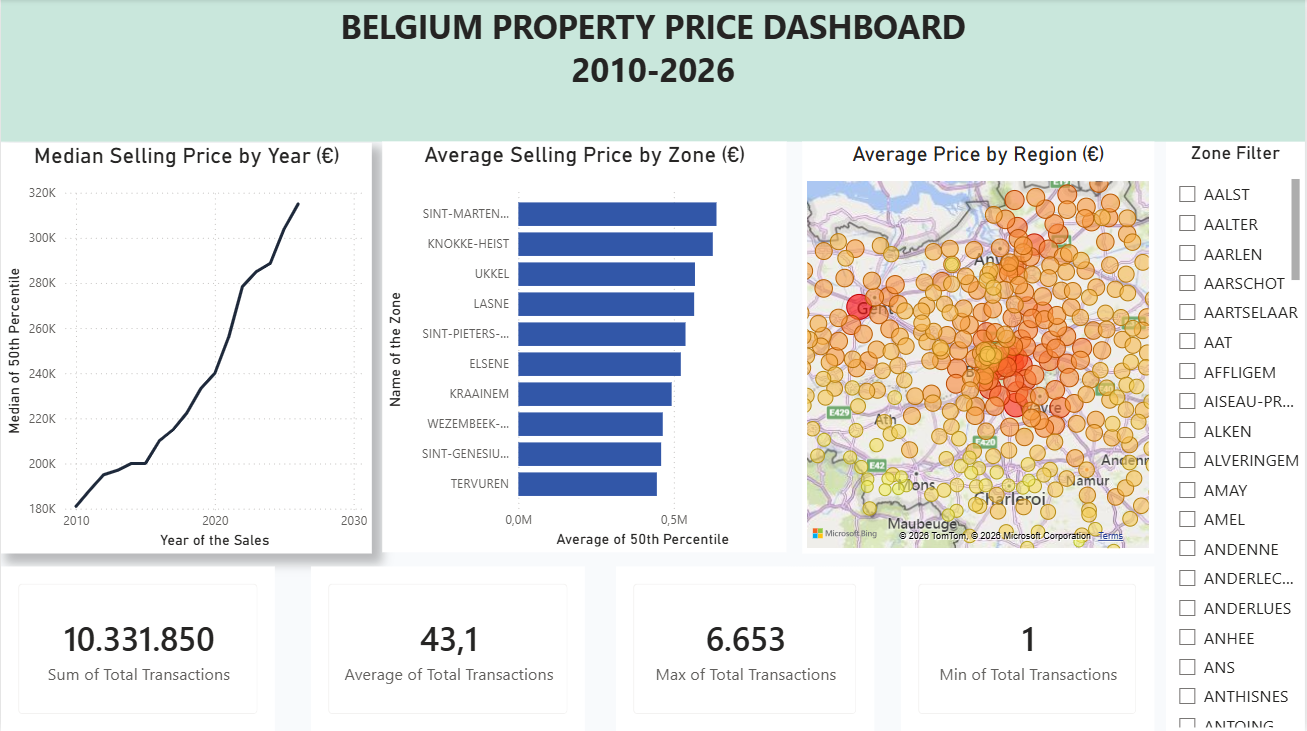

What the dashboard file says about the page in this screenshot:
{"tool":"powerbi","page":{"name":"Page 1","canvas":[1280,720],"ordinal":0},"visuals":[{"type":"lineChart","title":"Median Selling Price by Year (€)","fields":{"Category":["fct_property_sales.sales_year"],"Y":["Median(fct_property_sales.percentile_50)"]},"box":[0,141.2,364.3,403],"z":0},{"type":"slicer","title":"Zone Filter","fields":{"Values":["fct_property_sales.refnis_exp_nl"]},"box":[1143.7,139.9,136.3,580.3],"z":1000},{"type":"cardVisual","title":"Total Number of Transactions","fields":{"Data":["Sum(fct_property_sales.total_transactions)"]},"box":[0,557.4,269,162.9],"z":2000},{"type":"textbox","box":[0,0,1280,139.9],"z":3000},{"type":"cardVisual","title":"Average Number of Transactions","fields":{"Data":["Avg(fct_property_sales.total_transactions)"]},"box":[304,557.4,269,162.9],"z":4000},{"type":"cardVisual","title":"Minimum Number of Transactions","fields":{"Data":["Min(fct_property_sales.total_transactions)"]},"box":[883.1,557.4,248.5,162.9],"z":5000},{"type":"cardVisual","title":"Maximum Number of Transactions","fields":{"Data":["Max(fct_property_sales.total_transactions)"]},"box":[603.2,557.4,253.4,162.9],"z":6000},{"type":"clusteredBarChart","title":"Average Selling Price by Zone (€)","fields":{"Category":["fct_property_sales.refnis_exp_nl"],"Y":["Avg(fct_property_sales.percentile_50)"]},"box":[374,139.9,396.9,403],"z":7000},{"type":"map","title":"Average Price by Region (€)","fields":{"Category":["fct_property_sales.refnis_exp_nl"],"Size":["Avg(fct_property_sales.percentile_50)"]},"box":[786.6,139.9,345,404.2],"z":8000}]}

Visuals, with their boxes in screenshot pixels (x1, y1, x2, y2), scaled from the page's 1280x720 canvas onto the 1307x731 screenshot:
"Median Selling Price by Year (€)" lineChart: <region>0, 143, 372, 553</region>
"Zone Filter" slicer: <region>1168, 142, 1306, 730</region>
"Total Number of Transactions" cardVisual: <region>0, 566, 275, 730</region>
textbox: <region>0, 0, 1306, 142</region>
"Average Number of Transactions" cardVisual: <region>310, 566, 585, 730</region>
"Minimum Number of Transactions" cardVisual: <region>902, 566, 1155, 730</region>
"Maximum Number of Transactions" cardVisual: <region>616, 566, 875, 730</region>
"Average Selling Price by Zone (€)" clusteredBarChart: <region>382, 142, 787, 551</region>
"Average Price by Region (€)" map: <region>803, 142, 1155, 552</region>
